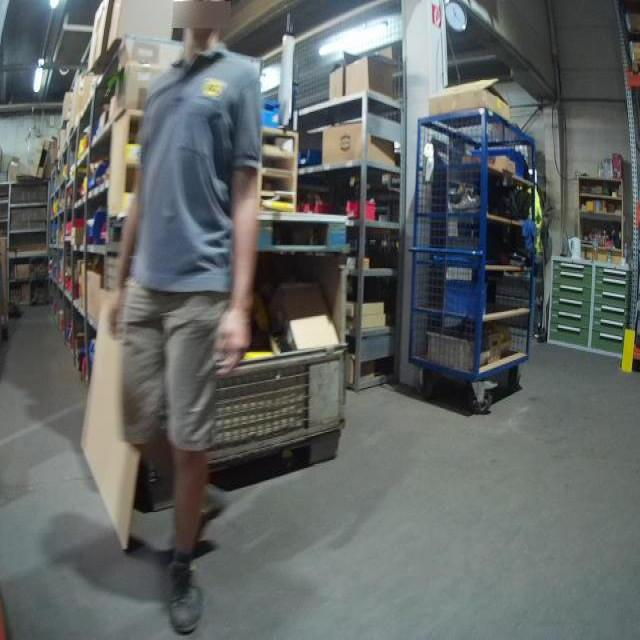pallet: (263, 217, 349, 252)
stillage: (130, 253, 343, 484)
